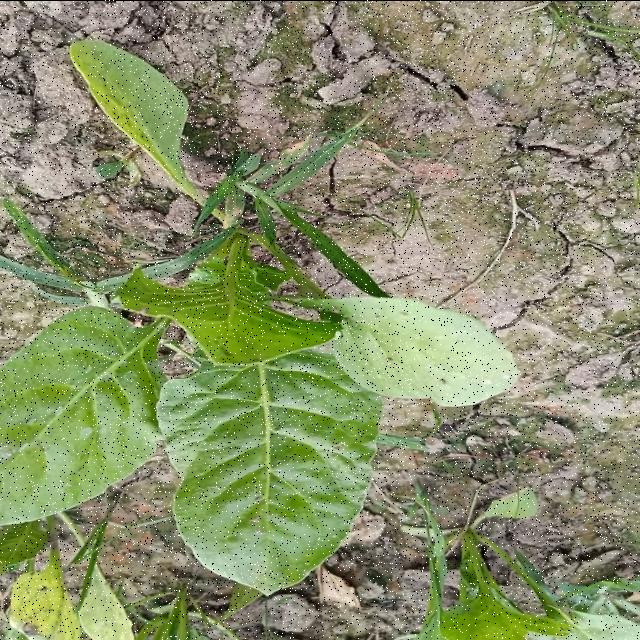plant: (0, 40, 517, 592)
